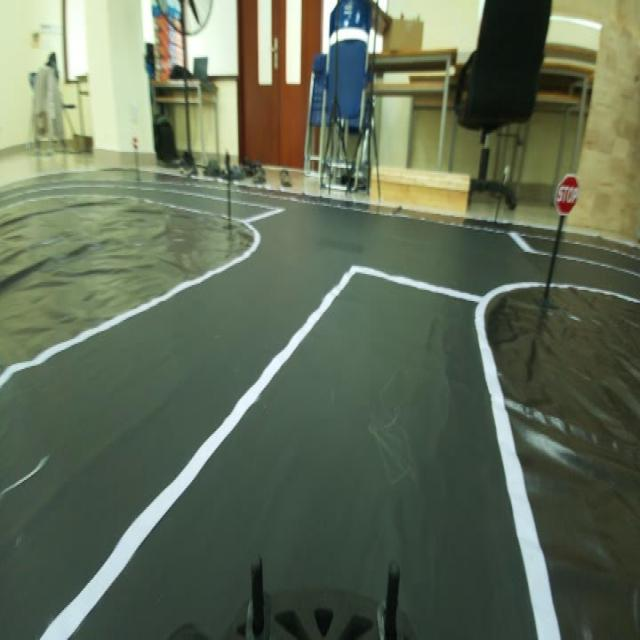stop: (551, 164, 581, 224)
